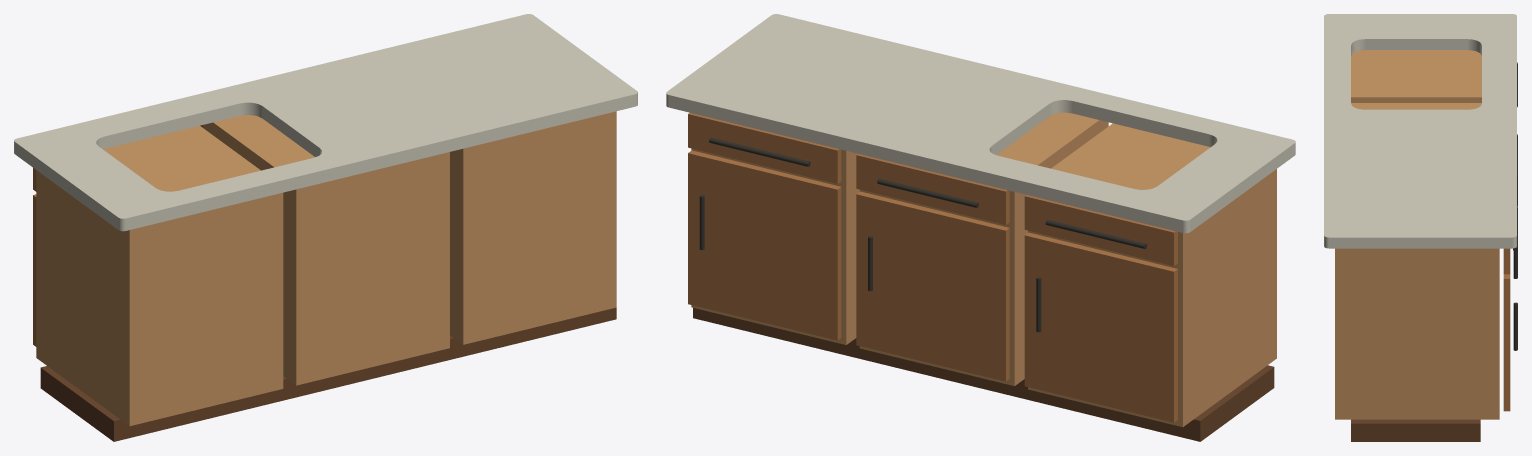
File: kitchen-south-cabinet-bank.gltf
3 views of the same model, side by side, from view 1: azimuth 30°, elevation 25°; view 2: azimuth 150°, elevation 25°; view 3: azimuth 270°, elevation 25° (orthographic). The views are drawn at different scales.
Parts seen in each view (by area): view 1: Kitchen honed stone countertop with sink cutout, Kitchen base cabinet 00, Kitchen base cabinet 01, Kitchen base cabinet 02, Kitchen recessed plinth, Kitchen cabinet oak door 00; view 2: Kitchen honed stone countertop with sink cutout, Kitchen base cabinet 00, Kitchen cabinet oak door 02, Kitchen cabinet oak door 00, Kitchen cabinet oak door 01, Kitchen recessed plinth, Kitchen base cabinet 01, Kitchen top drawer 01, Kitchen top drawer 00, Kitchen top drawer 02, Kitchen base cabinet 02, Kitchen drawer brass pull 00 (+2 smaller); view 3: Kitchen honed stone countertop with sink cutout, Kitchen base cabinet 02, Kitchen base cabinet 00, Kitchen recessed plinth, Kitchen cabinet oak door 02, Kitchen base cabinet 01, Kitchen door brass pull 02, Kitchen top drawer 02.
Boxes of the visible parts, x1=… form: Kitchen honed stone countertop with sink cutout: x1=14, y1=14, x2=637, y2=231; Kitchen base cabinet 00: x1=36, y1=125, x2=283, y2=426; Kitchen base cabinet 01: x1=203, y1=115, x2=449, y2=385; Kitchen base cabinet 02: x1=450, y1=111, x2=616, y2=344; Kitchen recessed plinth: x1=40, y1=307, x2=616, y2=441; Kitchen cabinet oak door 00: x1=33, y1=194, x2=36, y2=346; Kitchen honed stone countertop with sink cutout: x1=666, y1=14, x2=1295, y2=233; Kitchen base cabinet 00: x1=1028, y1=123, x2=1276, y2=427; Kitchen cabinet oak door 02: x1=688, y1=150, x2=841, y2=340; Kitchen cabinet oak door 00: x1=1024, y1=232, x2=1177, y2=422; Kitchen cabinet oak door 01: x1=856, y1=191, x2=1009, y2=381; Kitchen recessed plinth: x1=693, y1=308, x2=1274, y2=441; Kitchen base cabinet 01: x1=859, y1=112, x2=1108, y2=385; Kitchen top drawer 01: x1=856, y1=154, x2=1009, y2=224; Kitchen top drawer 00: x1=1024, y1=195, x2=1177, y2=265; Kitchen top drawer 02: x1=688, y1=113, x2=841, y2=183; Kitchen base cabinet 02: x1=691, y1=148, x2=859, y2=344; Kitchen drawer brass pull 00: x1=1045, y1=219, x2=1147, y2=249; Kitchen honed stone countertop with sink cutout: x1=1324, y1=14, x2=1516, y2=248; Kitchen base cabinet 02: x1=1335, y1=248, x2=1499, y2=419; Kitchen base cabinet 00: x1=1351, y1=50, x2=1481, y2=102; Kitchen recessed plinth: x1=1351, y1=419, x2=1480, y2=441; Kitchen cabinet oak door 02: x1=1503, y1=274, x2=1510, y2=411; Kitchen base cabinet 01: x1=1351, y1=103, x2=1481, y2=109; Kitchen door brass pull 02: x1=1513, y1=302, x2=1517, y2=350; Kitchen top drawer 02: x1=1503, y1=248, x2=1510, y2=274.
Size of the model in its own units: 1.96 by 0.85 by 0.718.
